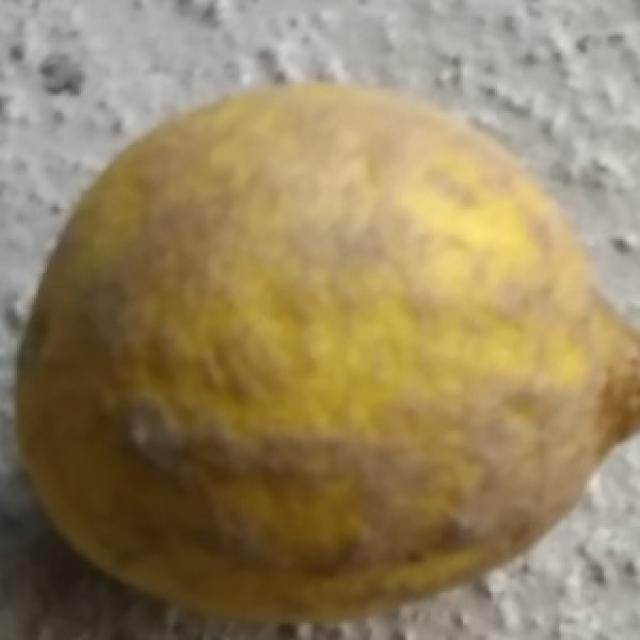overripe: (9, 76, 640, 626)
